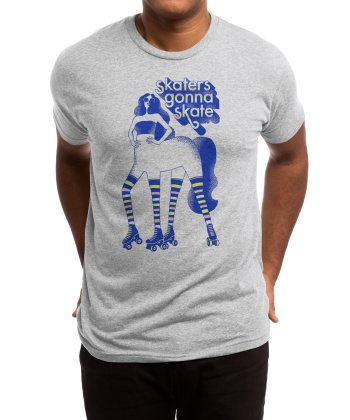design: (116, 74, 227, 258)
